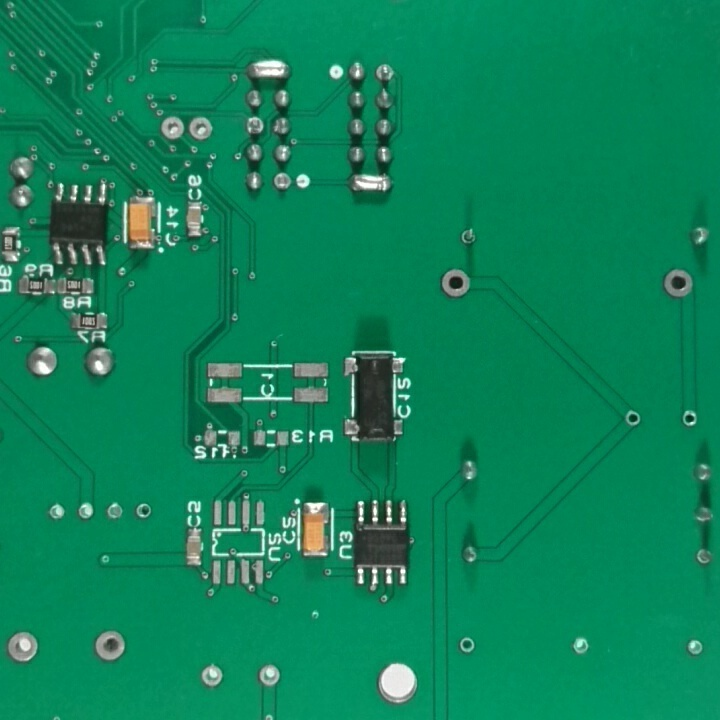F: (90, 626, 128, 667), (3, 629, 42, 666), (661, 267, 697, 301), (439, 266, 472, 300), (255, 659, 283, 689), (199, 661, 226, 691), (160, 115, 185, 141), (192, 115, 216, 142), (75, 499, 99, 523), (241, 115, 266, 138), (47, 500, 69, 526), (683, 636, 705, 661), (569, 634, 594, 655), (373, 62, 396, 84), (459, 224, 479, 249), (104, 501, 126, 523), (133, 499, 153, 523), (679, 409, 699, 432), (693, 545, 712, 569), (273, 172, 293, 193), (621, 409, 642, 427), (458, 635, 475, 657)
P: (345, 169, 396, 196), (247, 58, 292, 82)
